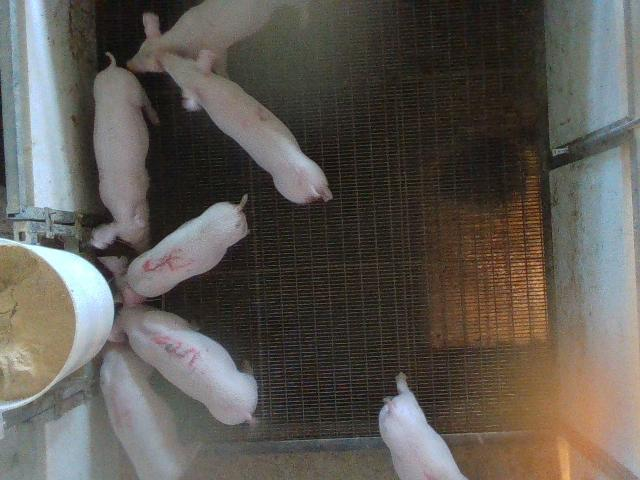pig-1: (379, 372, 466, 479)
pig-3: (110, 284, 258, 424)
pig-4: (100, 342, 199, 479)
pig-5: (99, 195, 249, 297)
